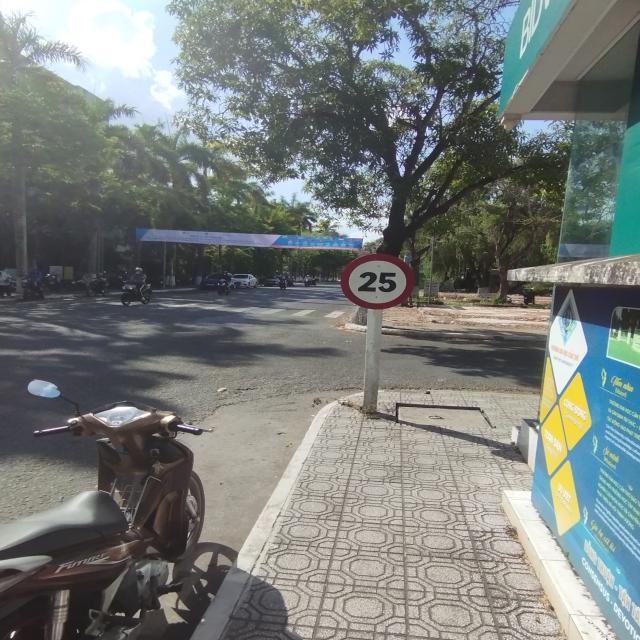Tre_Em: (340, 252, 416, 310)
